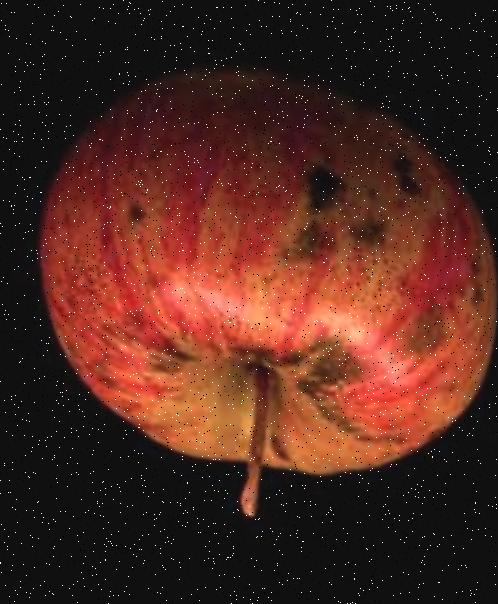BLOTCH: (0, 2, 498, 559)
